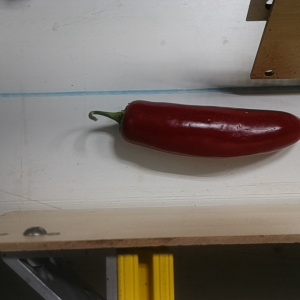Cut Point: (112, 99, 142, 141)
